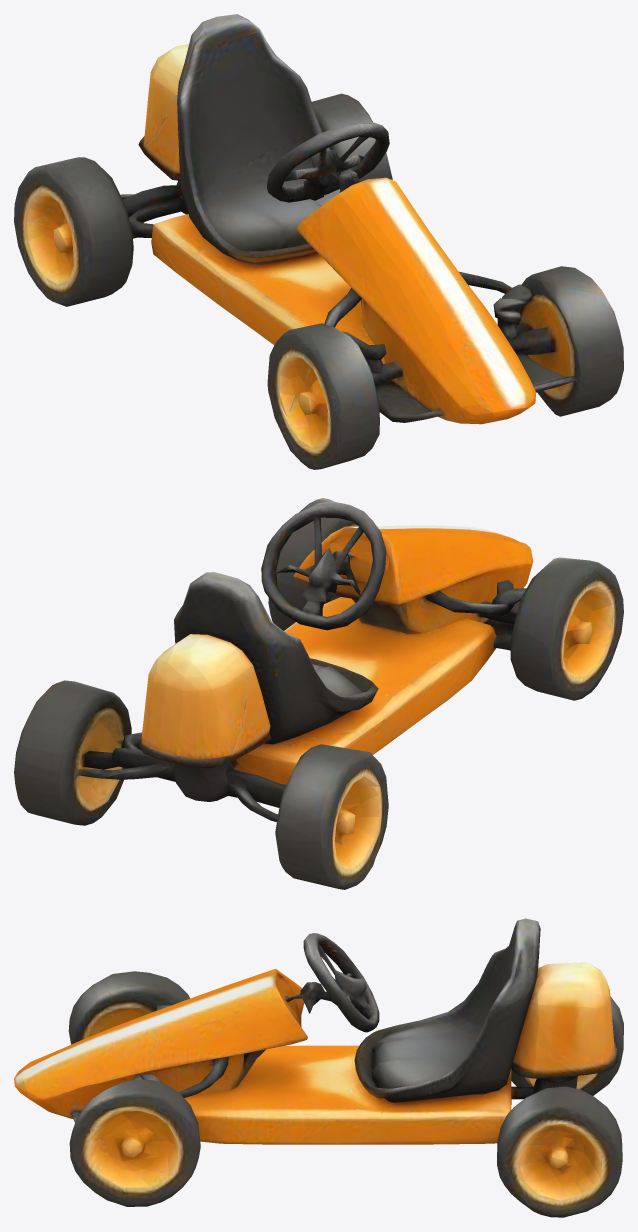
The model's file is classic-kart.glb.
The picture shows the model from 3 angles, top to bottom: view 1: azimuth 30°, elevation 25°; view 2: azimuth 150°, elevation 25°; view 3: azimuth 270°, elevation 25°; orthographic projection. The views are drawn at different scales.
Visible parts, largest first — view 1: model; view 2: model; view 3: model.
Boxes of the visible parts, left/top/right/bottom form: model: left=14, top=14, right=623, bottom=469; model: left=14, top=498, right=623, bottom=889; model: left=14, top=918, right=623, bottom=1217.
Bounding box in the file's own units: 1.52 × 1.19 × 2.9.
1 material, 1 textured.
